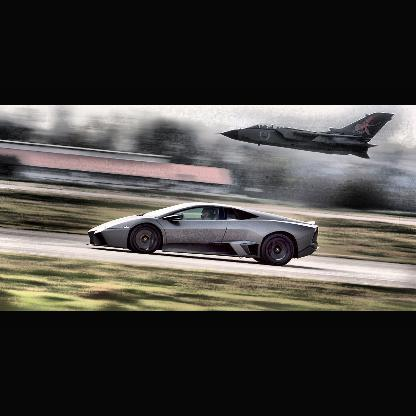Lamborghini Reventon Coupe 2008: (89, 203, 320, 267)
